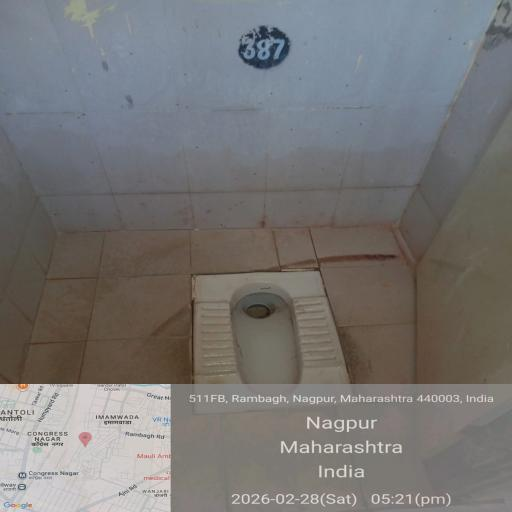clean_floor: (65, 40, 512, 166)
partial_dirty_floor: (2, 220, 512, 512)
partial_dirty_indian: (181, 264, 364, 408)
